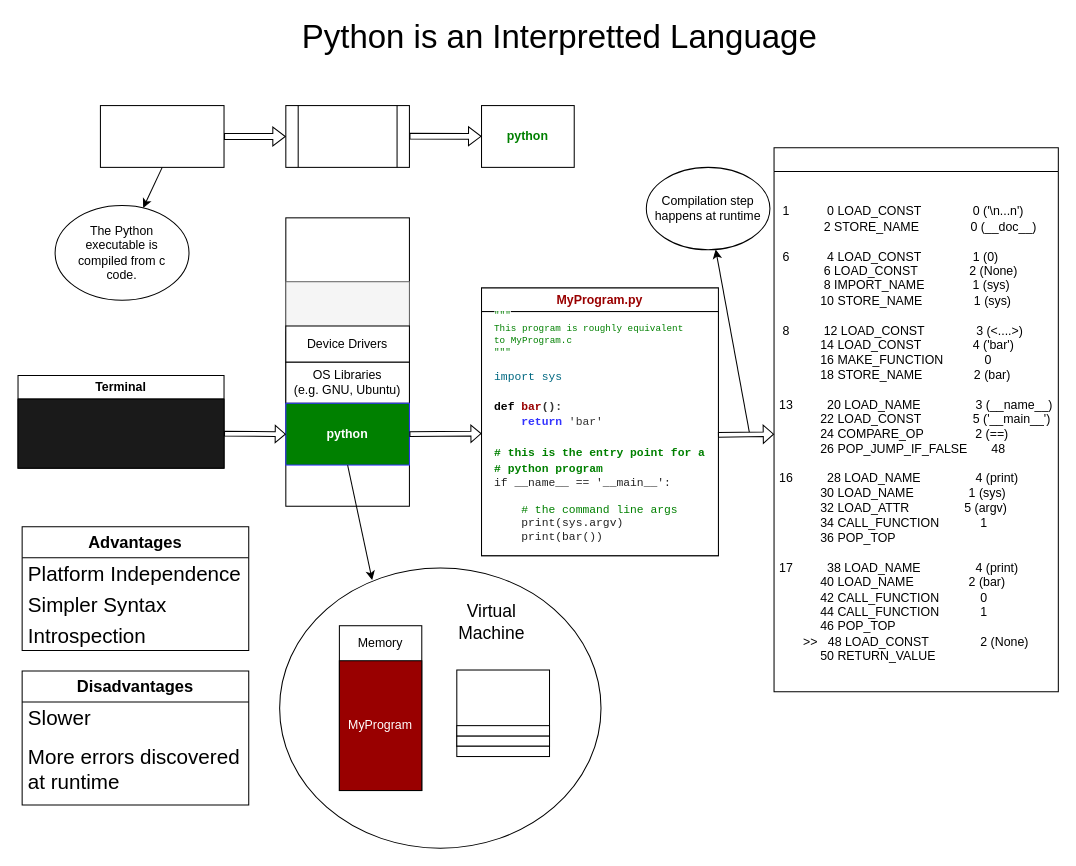
Some shapes in this 1076 by 866 pixel diagram are drawn without their labels. The shapes that lost their labels are listed below. From the top down, each one's centre as x and y in pixels, then its label:
the point at 161,136: CPython.c
the point at 347,136: compiler (gcc)
the point at 347,250: Main Memory (RAM)
the point at 347,306: OS Kernel (e.g. Linux)
the point at 120,433: > python MyProgram.py arg1 arg2 ['MyProgram.py', 'arg1', 'arg2' ] bar >
the point at 915,419: MyProgram.pyc
the point at 503,707: CPU
